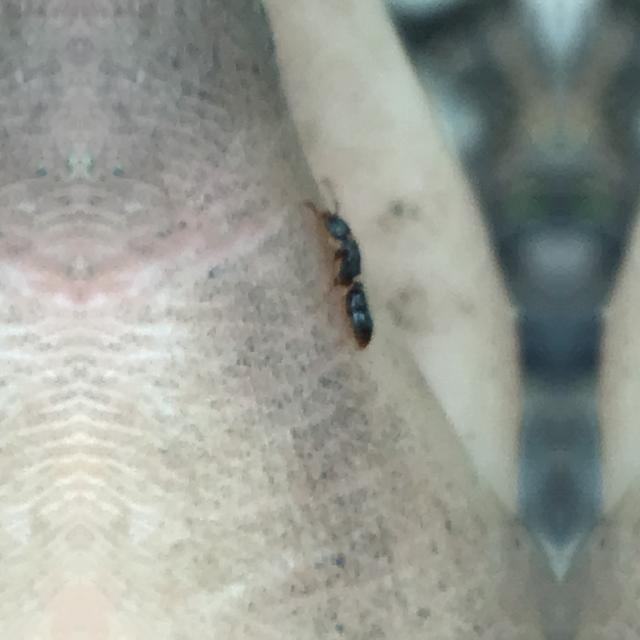Ponera: (303, 171, 402, 361)
